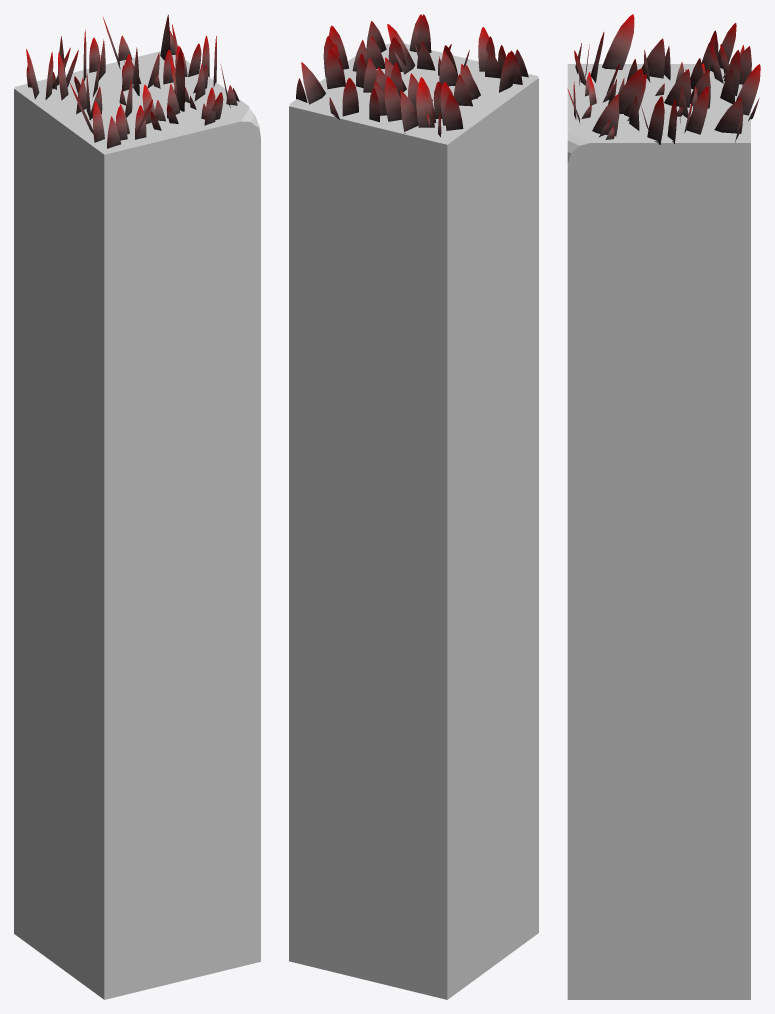
The model's file is f_GrassTileModel_4.fbx.
The picture shows the model from 3 angles, left to right: view 1: azimuth 30°, elevation 25°; view 2: azimuth 150°, elevation 25°; view 3: azimuth 270°, elevation 25°; orthographic projection.
Visible parts, largest first — view 1: Stone.005, Grass.007, Stone.006; view 2: Stone.005, Grass.007, Stone.006; view 3: Stone.005, Grass.007, Stone.006.
Boxes of the visible parts, <box> form: Stone.005: <box>14,88,260,999</box>; Grass.007: <box>26,14,239,148</box>; Stone.006: <box>14,51,249,152</box>; Stone.005: <box>289,77,538,999</box>; Grass.007: <box>296,14,528,137</box>; Stone.006: <box>289,43,538,142</box>; Stone.005: <box>567,131,750,999</box>; Grass.007: <box>567,14,760,144</box>; Stone.006: <box>567,64,750,141</box>.
Size of the model in its own units: 1.04 by 5.48 by 1.06.
